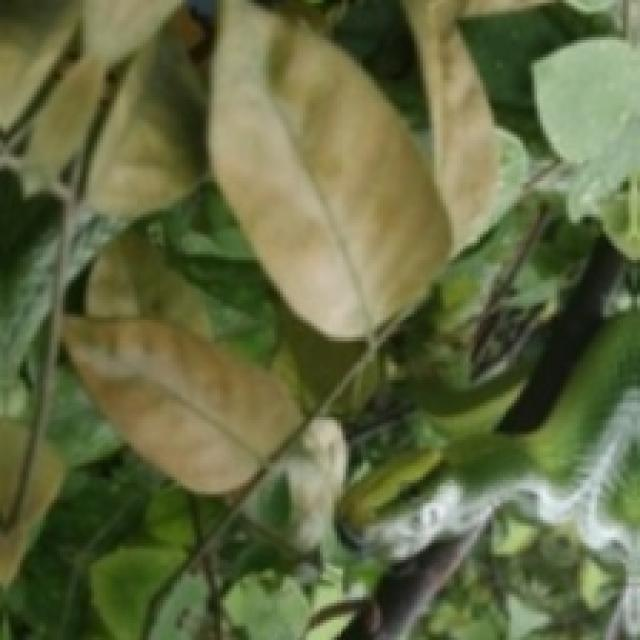red-tailed green ratsnake: (345, 312, 640, 561), (0, 230, 56, 369), (72, 215, 123, 281)
